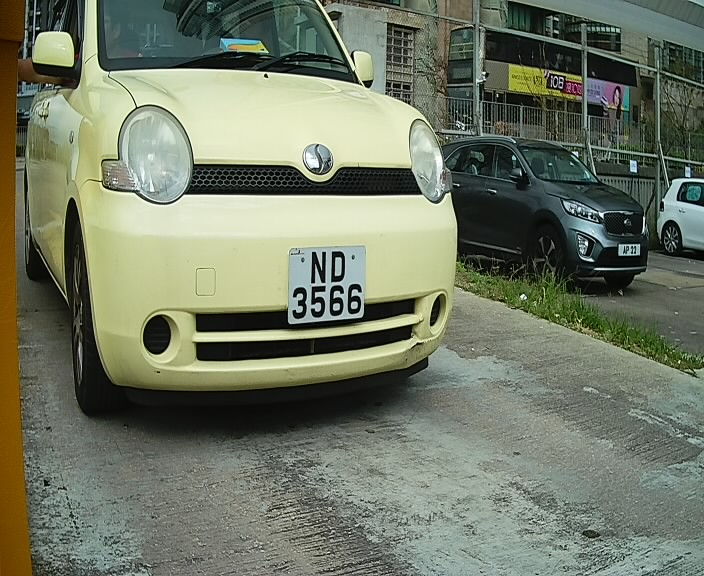Car: (2, 2, 478, 438)
License Plate: (274, 240, 378, 334)
